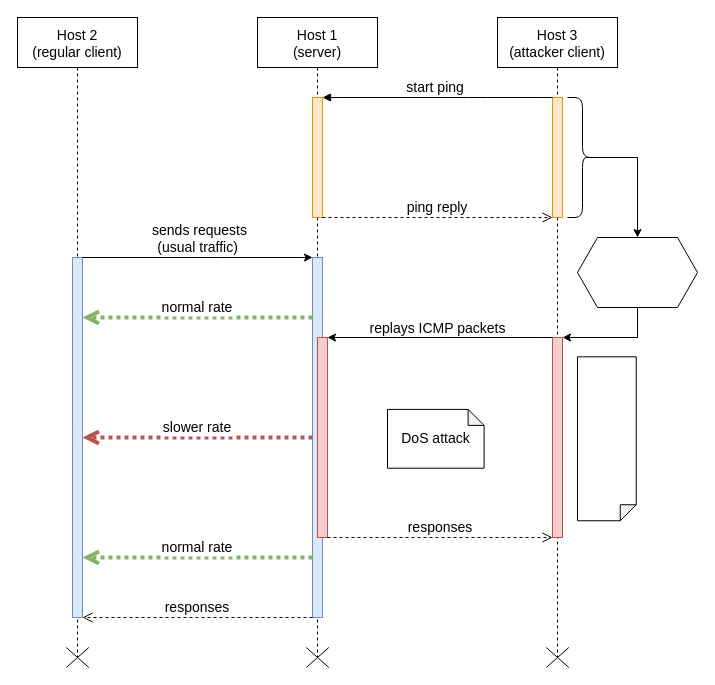
This 715x685 diagram has some shape labels left out. Each missing label, with the centre of its shape:
"Filter and store ICMP packets" goes at (637,272).
"Replay packets with maximum frequency" goes at (606,438).
